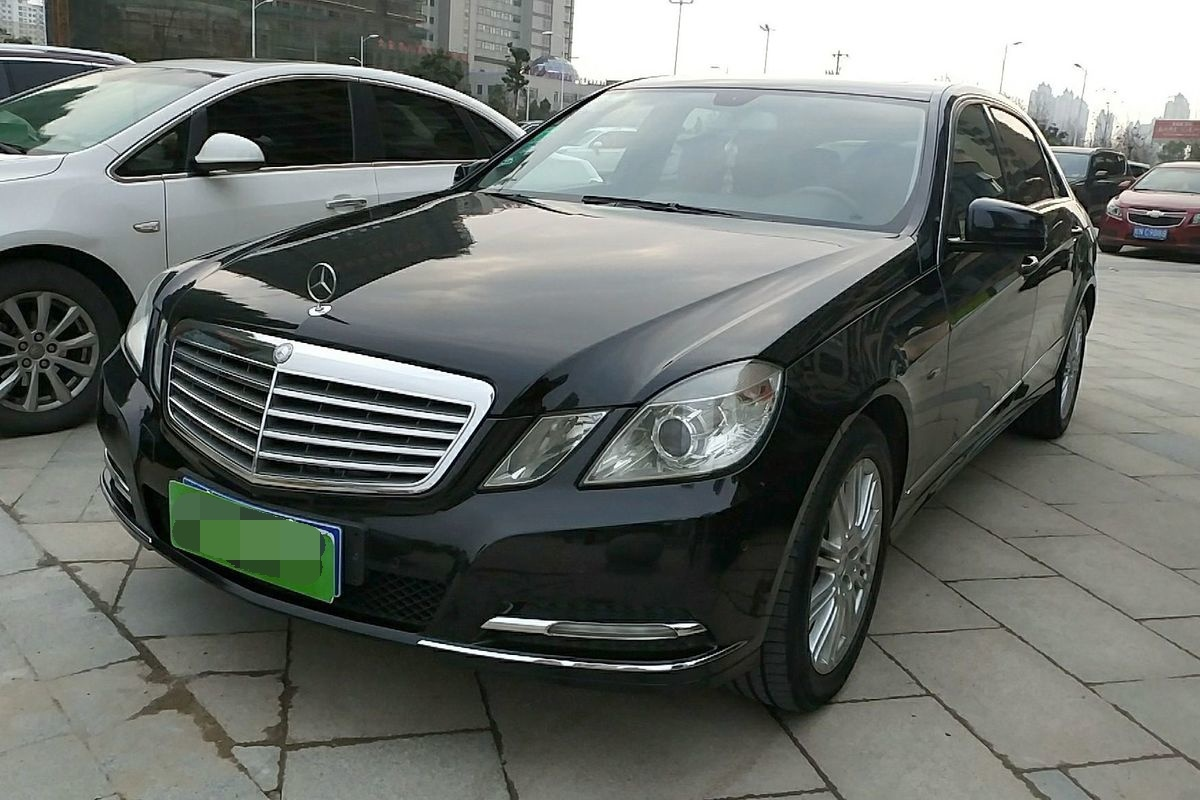family sedan: (134, 60, 1124, 715), (7, 47, 495, 443)
